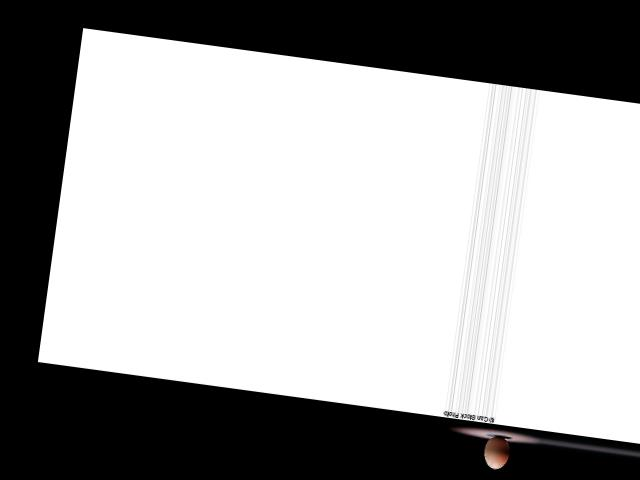egg: (481, 434, 511, 470)
